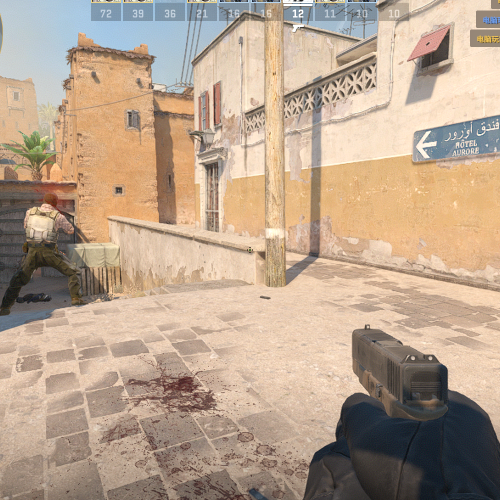t_body: (1, 193, 89, 315)
t_head: (42, 193, 59, 207)
